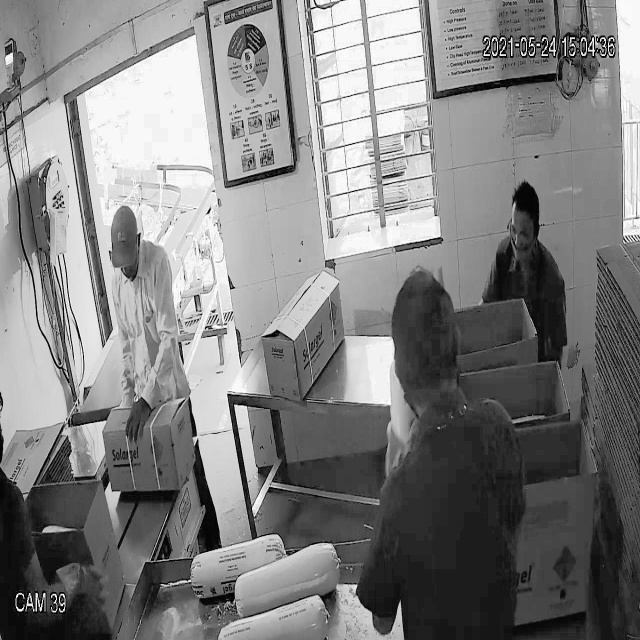Gafas: (507, 217, 540, 249)
